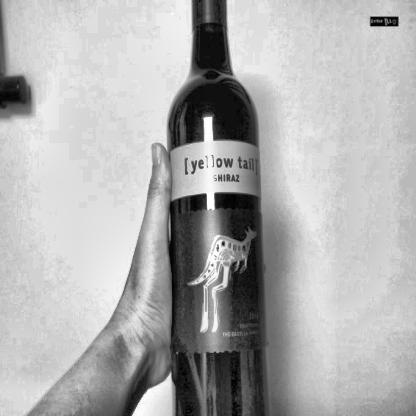yellowtail: (171, 145, 267, 354)
